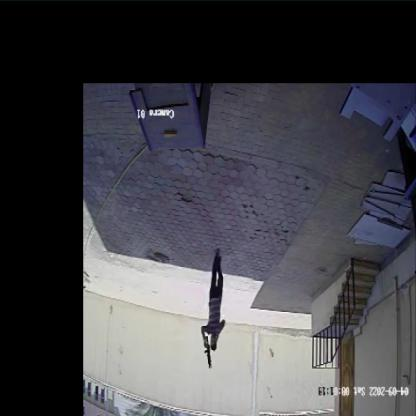handgun: (198, 332, 213, 376)
